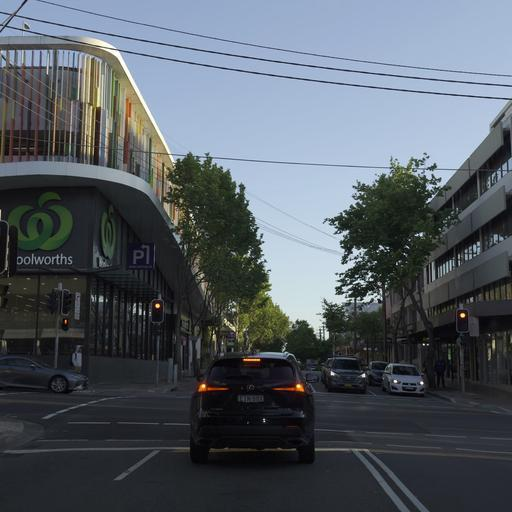Street light: (150, 298, 164, 324), (455, 308, 469, 333)
